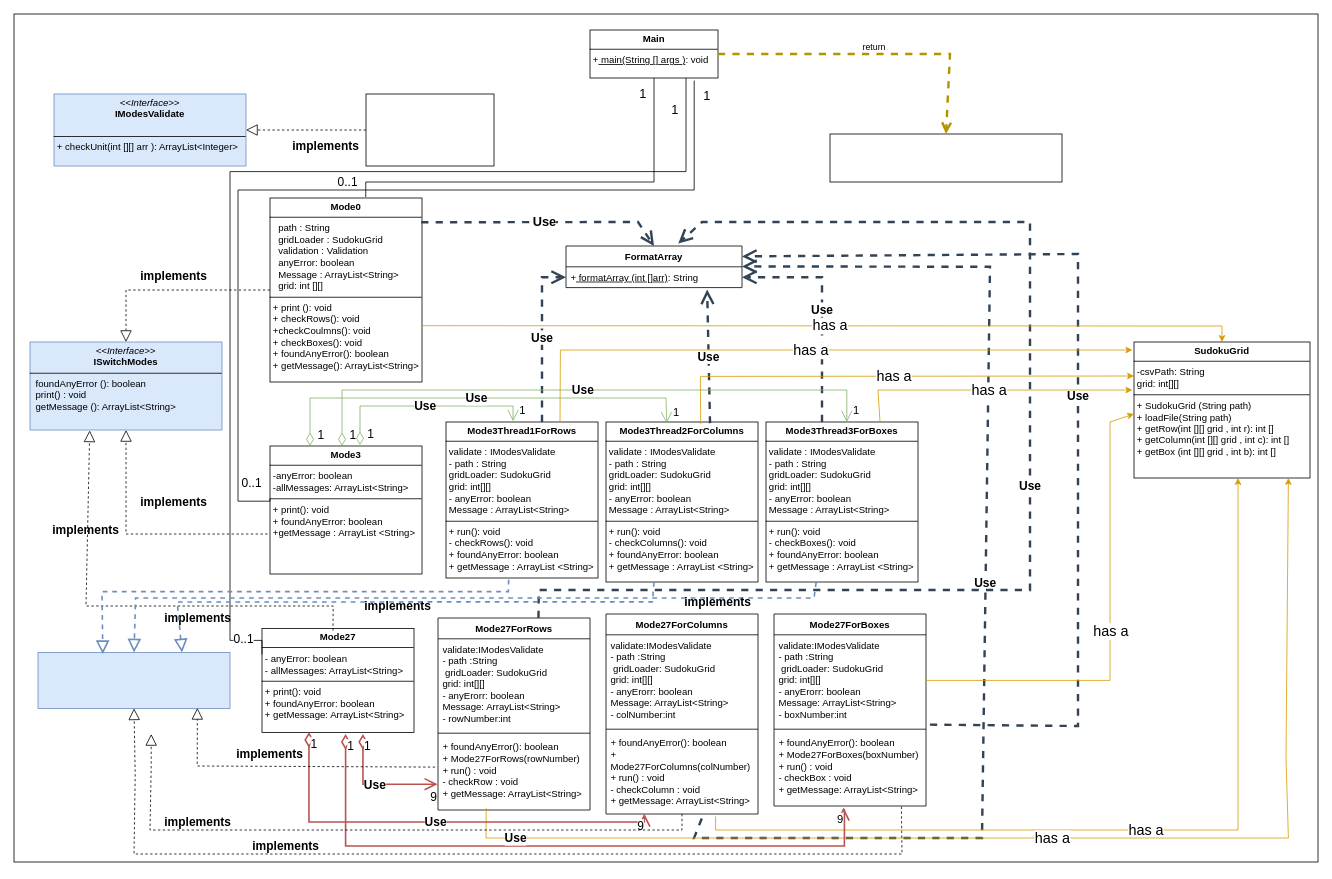
The diagram is 1332 pixels wide and 879 high, and some of its shapes have lost their labels. Each missing label, with the centre of its shape:
<<Interface>> Runnable + run() : void: pixel 133 680
OutputForModes + outputMessage (ArrayList <String> Message): void: pixel 945 157
Validation + checkUnit(int [] arr): ArrayList < integer>: pixel 429 129
